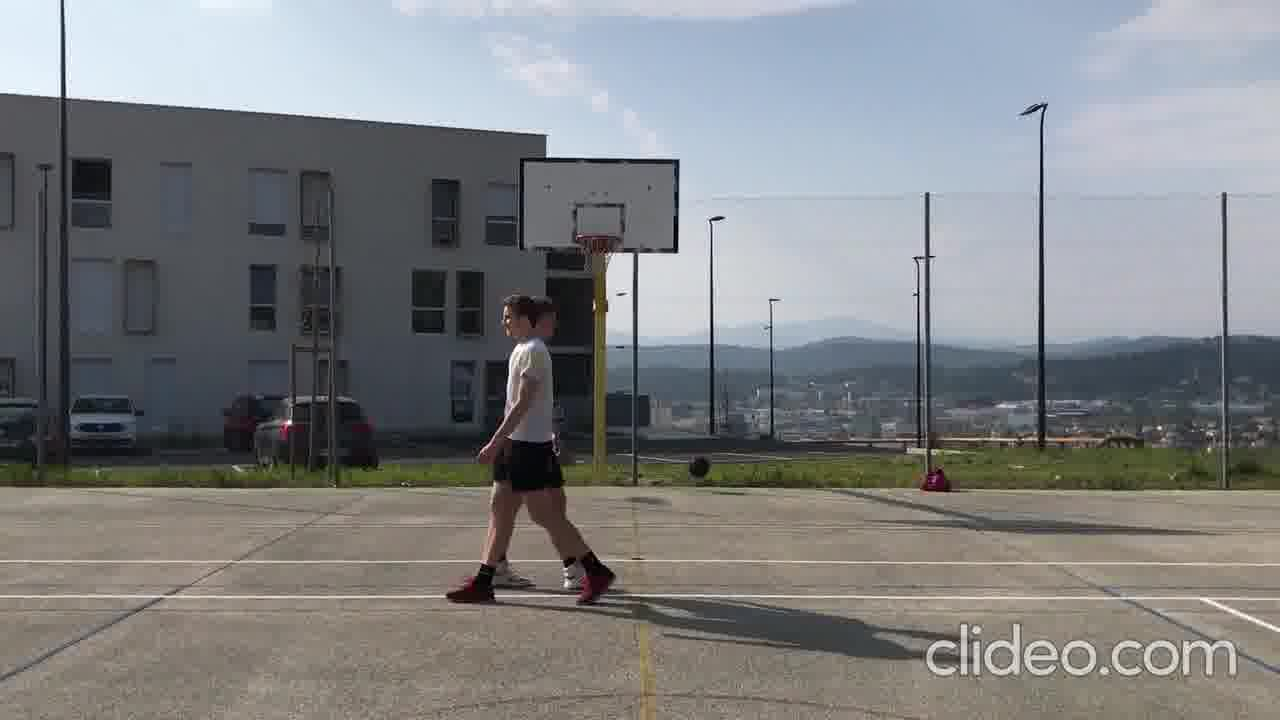jugador: (432, 282, 629, 620)
